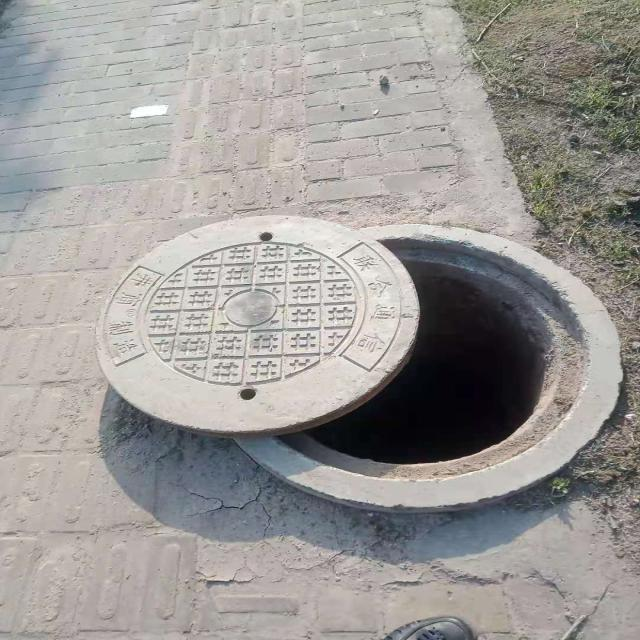Faulty: (98, 213, 620, 506)
